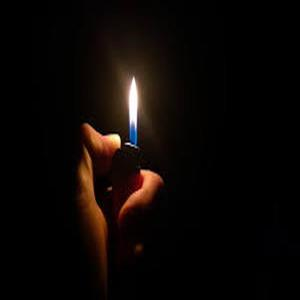fire: (125, 70, 146, 141)
